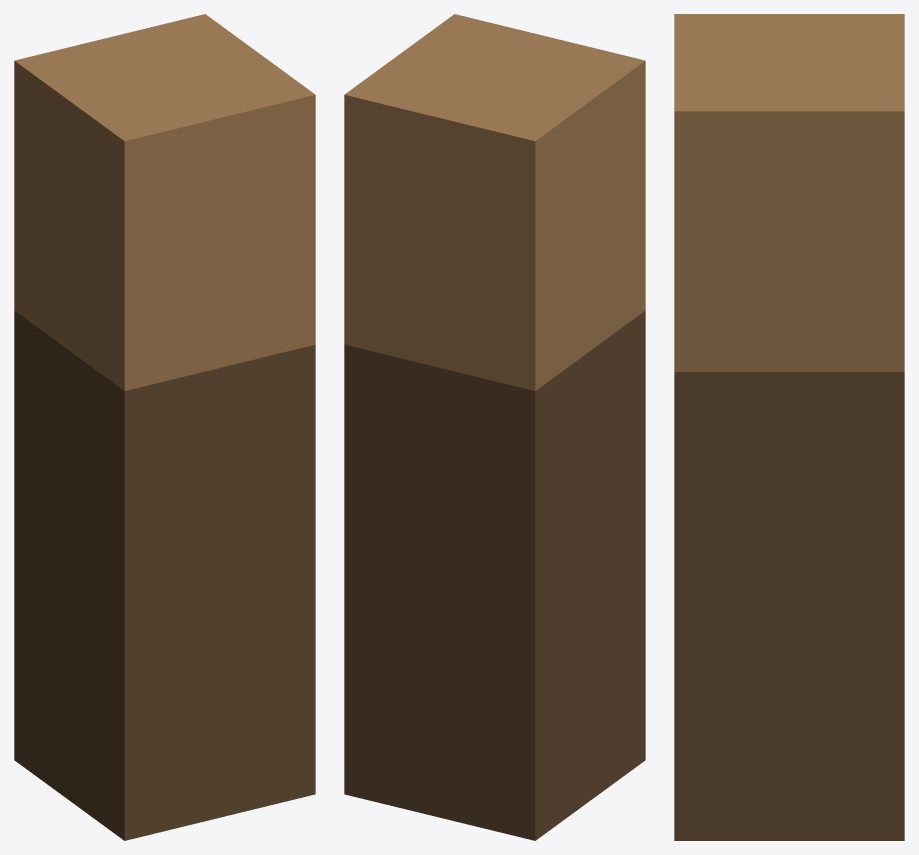
Rendered from Lama Default Leg.obj.
3 renders of one model, left to right at view 1: azimuth 30°, elevation 25°; view 2: azimuth 150°, elevation 25°; view 3: azimuth 270°, elevation 25°, orthographic. The views are drawn at different scales.
Size of the model in its own units: 0.4 by 1.4 by 0.4.
